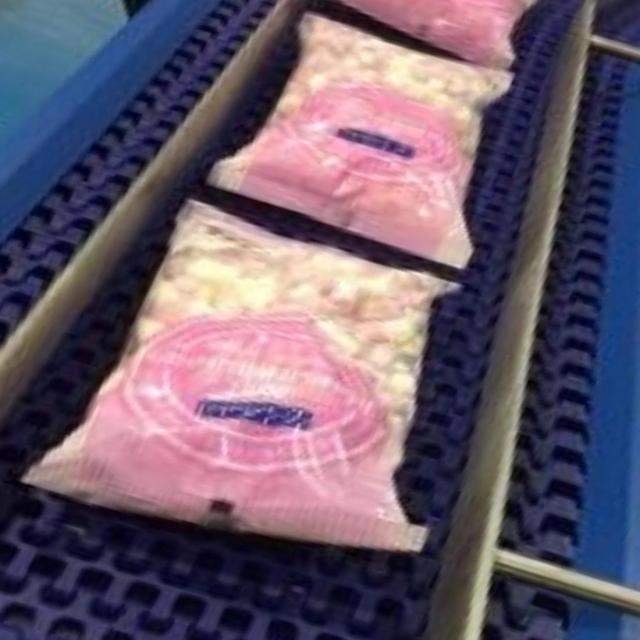food: (26, 188, 466, 569), (196, 0, 519, 261)
